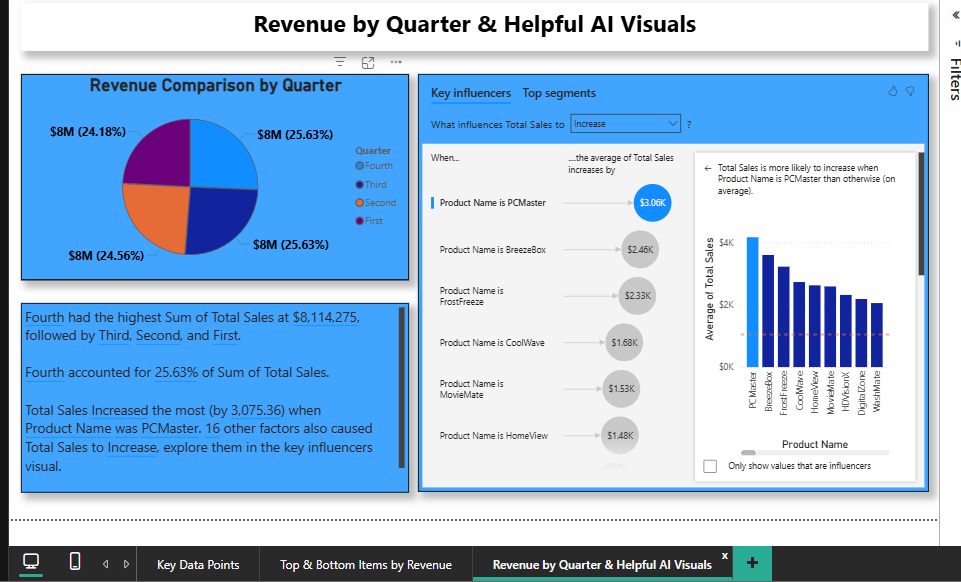

Layout of this report page (visuals, bound fields, positions):
{"tool":"powerbi","page":{"name":"Revenue by Quarter & Helpful AI Visuals ","canvas":[1280,720],"ordinal":2},"visuals":[{"type":"pieChart","title":" Revenue Comparison by Quarter ","fields":{"Category":["DimTransaction.Quarter"],"Y":["Sum(FactSales.Total Sales)"]},"box":[16.9,107.7,534,283.7],"z":0},{"type":"keyDriversVisual","fields":{"Target":["FactSales.Total Sales"],"ExplainBy":["DimProducts.Product Name"]},"box":[563.1,107.7,703.1,575.4],"z":1000},{"type":"textbox","box":[16.9,421.9,534,261.2],"z":2000},{"type":"textbox","box":[16.9,9.2,1249.2,66.2],"z":3000}]}

Visuals, with their boxes on the page's 1280x720 design canvas (x1, y1, x2, y2). These are canvas units, not pixel positions in the 961x582 screenshot, which may show the page scaled, cropped or inside an application window:
" Revenue Comparison by Quarter " pieChart: (left=17, top=108, right=551, bottom=391)
keyDriversVisual - FactSales.Total Sales x DimProducts.Product Name: (left=563, top=108, right=1266, bottom=683)
textbox: (left=17, top=422, right=551, bottom=683)
textbox: (left=17, top=9, right=1266, bottom=75)
